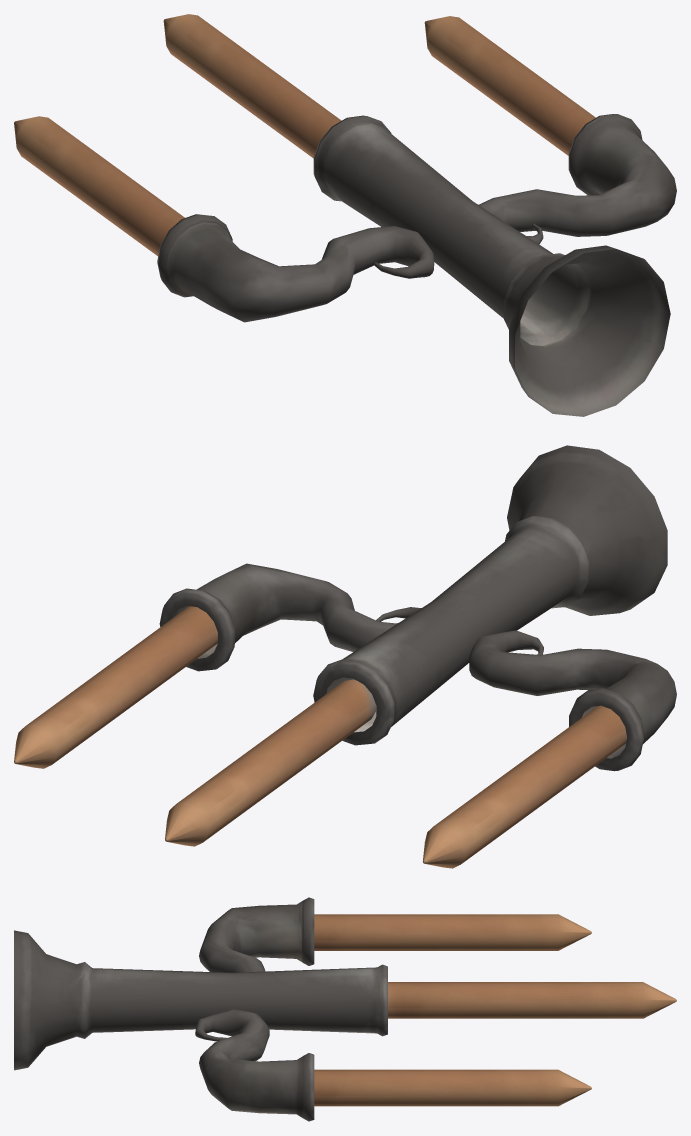
File: Candelabro Fin.FBX
3 views of the same model, one above another, from view 1: azimuth 30°, elevation 25°; view 2: azimuth 150°, elevation 25°; view 3: azimuth 270°, elevation 25° (orthographic). The views are drawn at different scales.
Parts seen in each view (by area): view 1: Candelabro; view 2: Candelabro; view 3: Candelabro.
Part boxes in pixels (x1=…): Candelabro: x1=14, y1=14, x2=676, y2=416; Candelabro: x1=14, y1=445, x2=676, y2=868; Candelabro: x1=14, y1=897, x2=676, y2=1121.
Size of the model in its own units: 34.37 by 11.09 by 52.44.
Materials: 1 (1 with a texture image).
